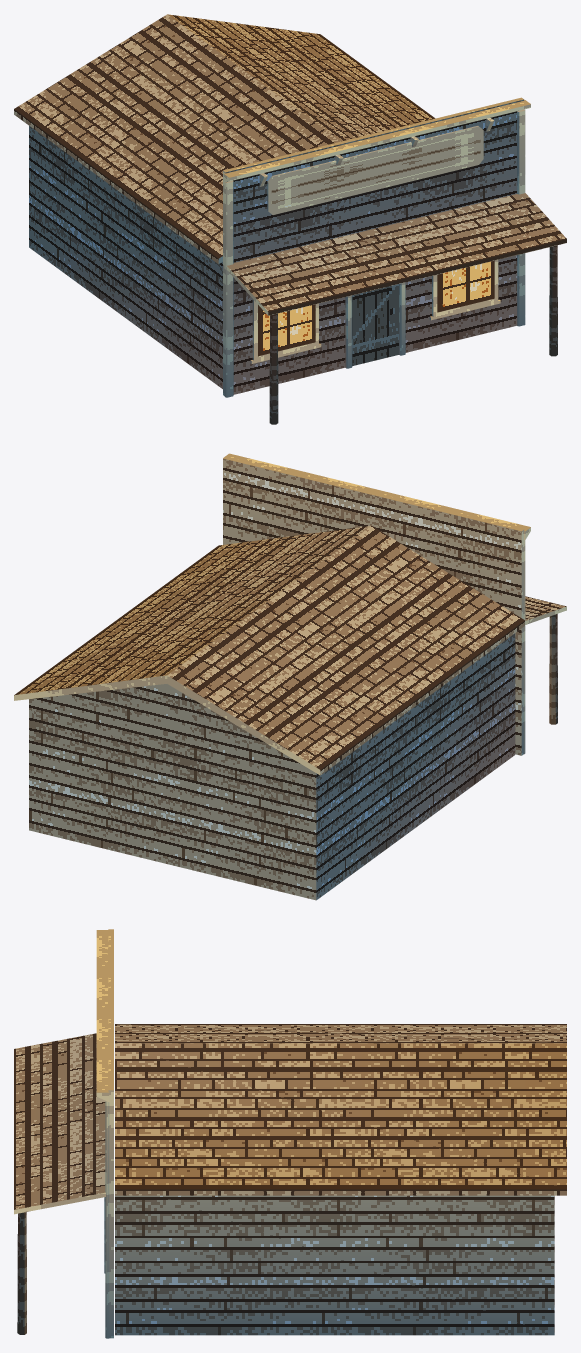
The model's file is wtown.store.glb.
3 views of the same model, one above another, from view 1: azimuth 30°, elevation 25°; view 2: azimuth 150°, elevation 25°; view 3: azimuth 270°, elevation 25° (orthographic). The views are drawn at different scales.
Parts seen in each view (by area): view 1: kit_roof, kit_front, kit_body, kit_porch, kit_card_panes, kit_trim, kit_windows; view 2: kit_body, kit_roof, kit_front, kit_trim, kit_porch; view 3: kit_roof, kit_body, kit_porch, kit_trim, kit_front.
Part boxes in pixels (<box>): kit_roof: <box>14,14,435,264</box>; kit_front: <box>223,97,524,395</box>; kit_body: <box>29,126,222,388</box>; kit_porch: <box>226,193,566,424</box>; kit_card_panes: <box>258,129,494,365</box>; kit_trim: <box>223,100,530,397</box>; kit_windows: <box>250,260,500,363</box>; kit_body: <box>29,633,515,900</box>; kit_roof: <box>14,525,524,775</box>; kit_front: <box>223,456,524,755</box>; kit_trim: <box>224,453,530,754</box>; kit_porch: <box>525,596,566,724</box>; kit_roof: <box>115,1024,566,1195</box>; kit_body: <box>115,1195,554,1335</box>; kit_porch: <box>14,1033,105,1334</box>; kit_trim: <box>96,930,109,1338</box>; kit_front: <box>108,929,113,1338</box>.
Size of the model in its own units: 8 by 5.6 by 11.32.
Materials: 7 (7 with a texture image).
